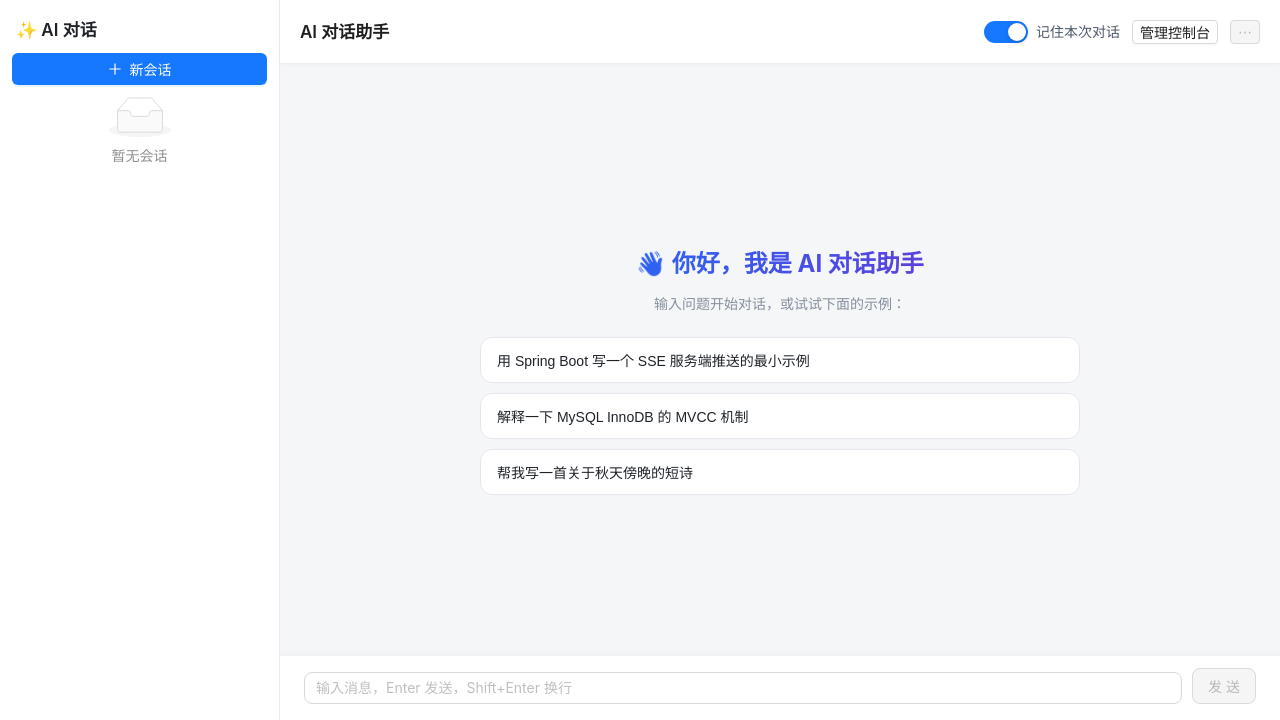
Test: App 集成（AC-17~29） › 发送消息：乐观渲染用户消息与流式回复；停止后片段保留并标注「已停止」
Type "你好" into the text box with test id "chat-input".
click(743, 688); type("你好")  # box [304,672,1182,704]
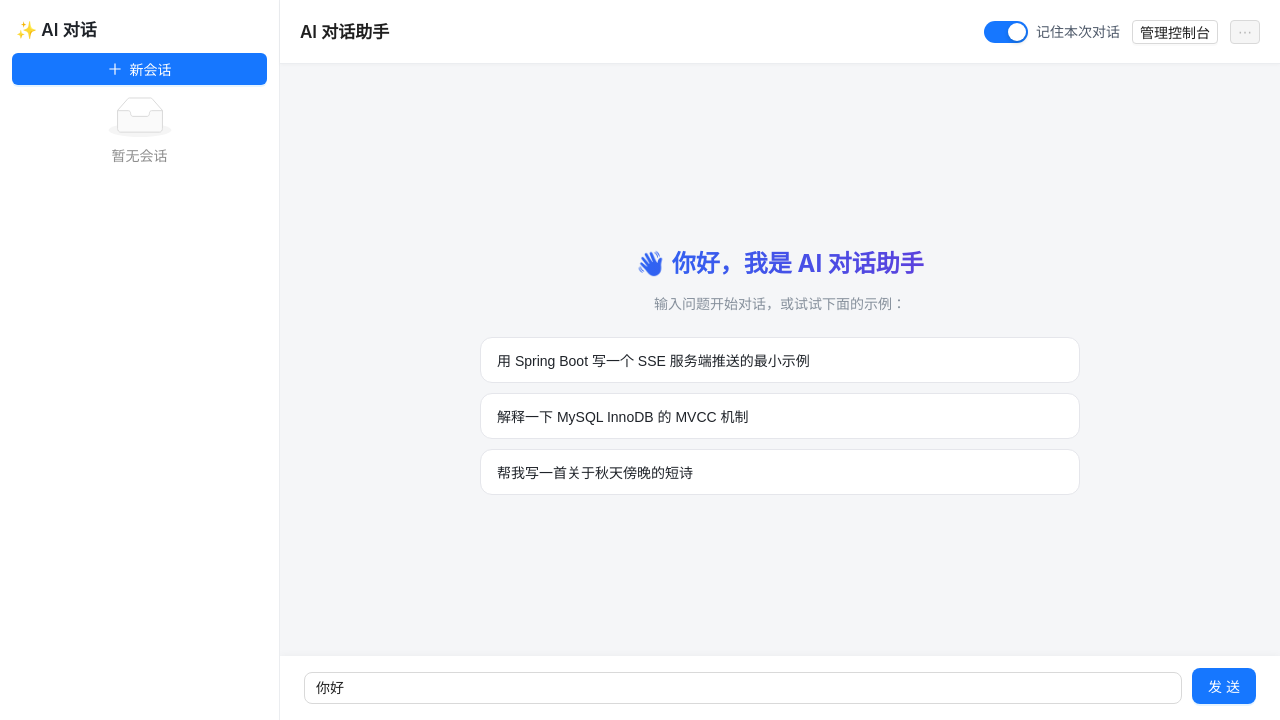
Click the button with test id "chat-send".
click(1224, 686)  # box [1192,668,1256,704]
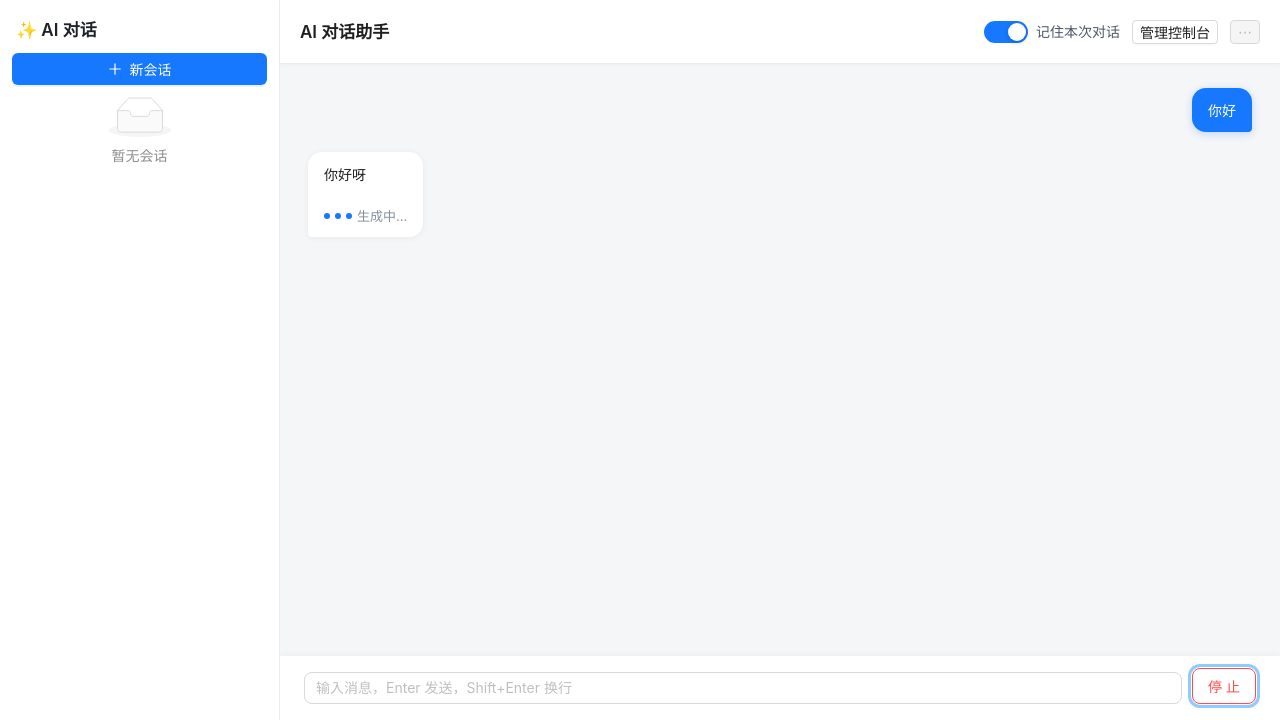
Result: the text "你好" is shown at [1208,100,1236,120]
Result: the text "你好呀" is shown at [324,166,366,183]
Click the button with test id "chat-stop".
click(1224, 686)  # box [1192,668,1256,704]
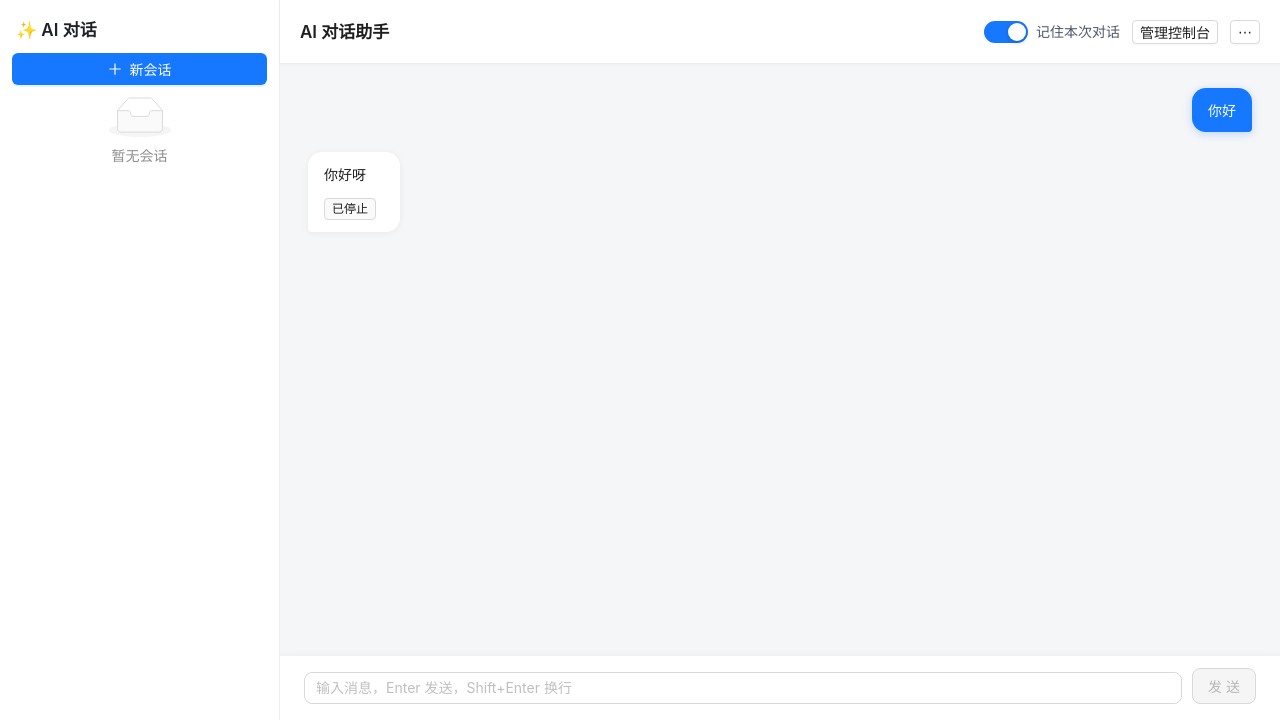
Result: the text "已停止" is shown at [324,198,376,220]
